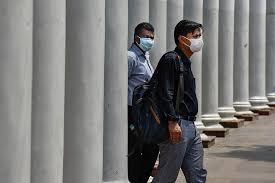mask: (184, 25, 206, 52), (136, 25, 155, 52)
